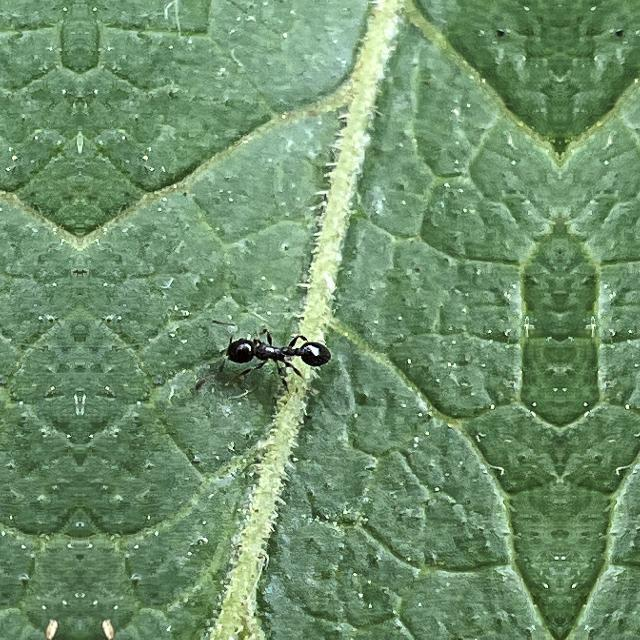Temnothorax: (182, 317, 336, 397)
